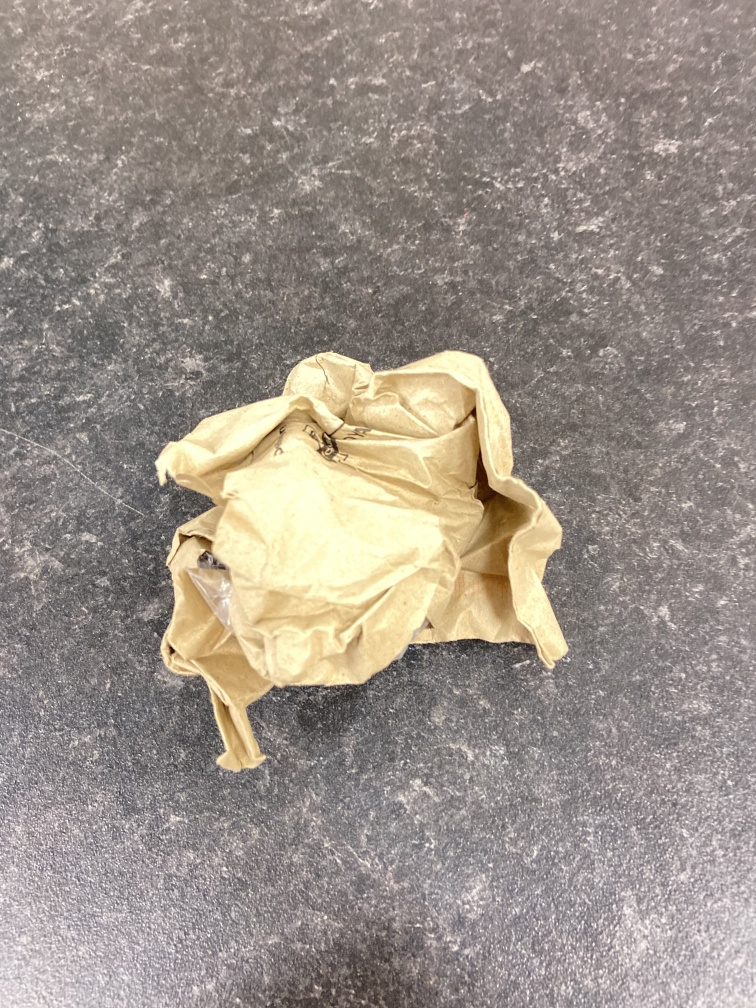paper_brown: (149, 345, 587, 776)
